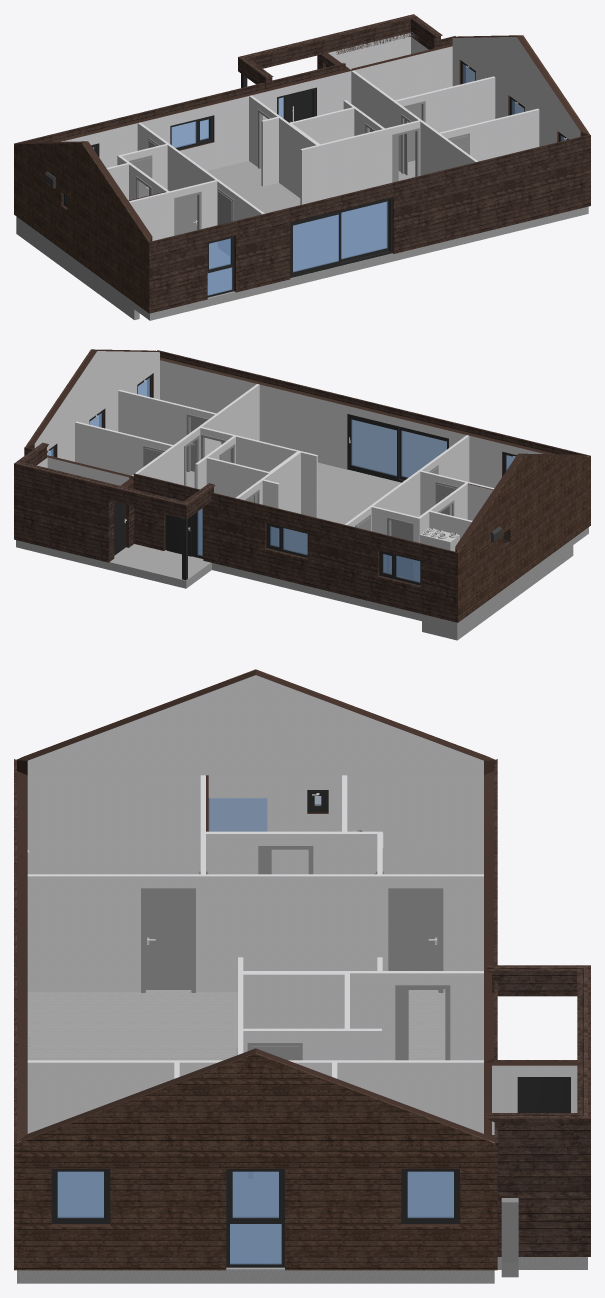
Rendered from house.glb.
The picture shows the model from 3 angles, top to bottom: view 1: azimuth 30°, elevation 25°; view 2: azimuth 150°, elevation 25°; view 3: azimuth 270°, elevation 25°; orthographic projection. The views are drawn at different scales.
Visible parts, largest first — view 1: Material3 (×7), Material2 (×2); view 2: Material3 (×8), Material2 (×2); view 3: Material3 (×9), Material2 (×2).
Part boxes in pixels (<box>): Material3 (×7): <box>14,14,590,320</box>; Material2 (×2): <box>128,65,564,294</box>; Material3 (×8): <box>14,349,590,640</box>; Material2 (×2): <box>47,379,513,581</box>; Material3 (×9): <box>14,669,590,1283</box>; Material2 (×2): <box>58,796,453,1263</box>.
Bounding box in the file's own units: 677 × 204 × 426.
Materials: 22 (11 with a texture image).
